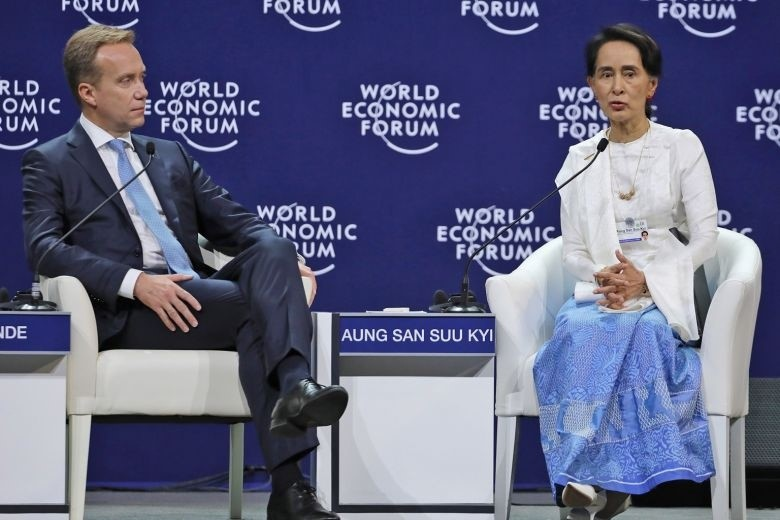face_no_mask: (66, 27, 147, 128), (588, 24, 661, 121)
